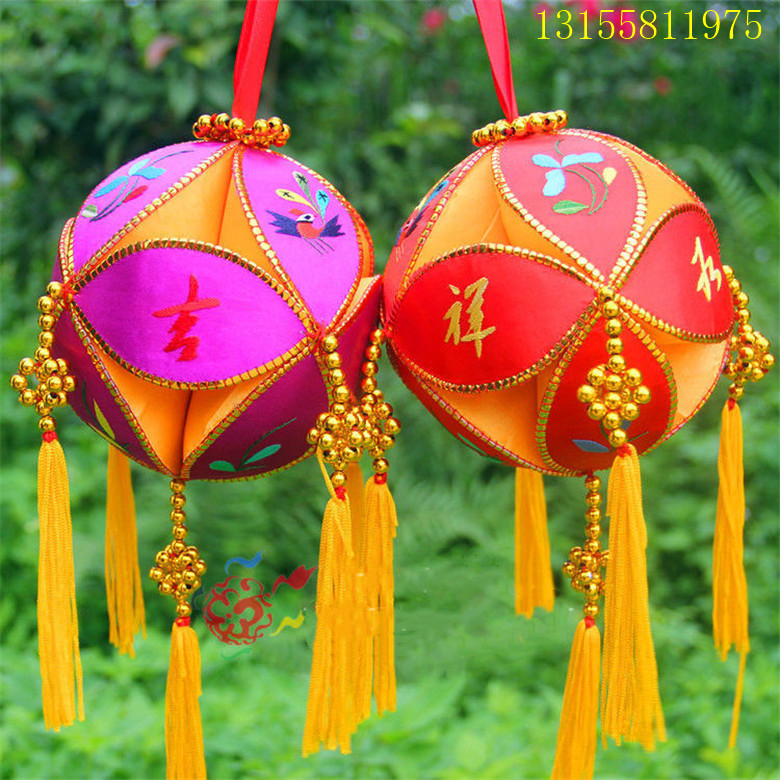xiuqiu: (389, 132, 737, 476), (52, 138, 389, 480)
